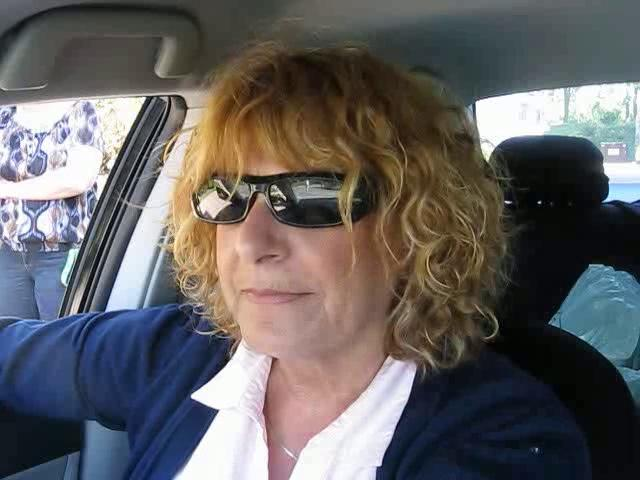no_yawn: (229, 269, 329, 322)
